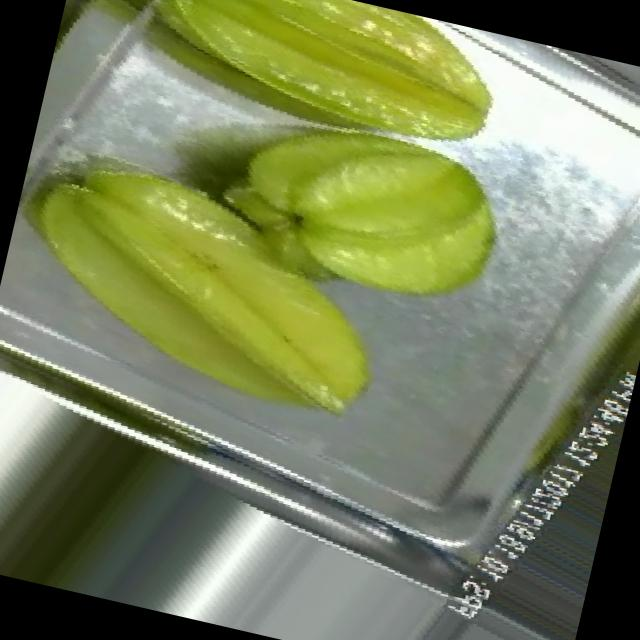fruit: (162, 0, 575, 384), (8, 100, 443, 457)
